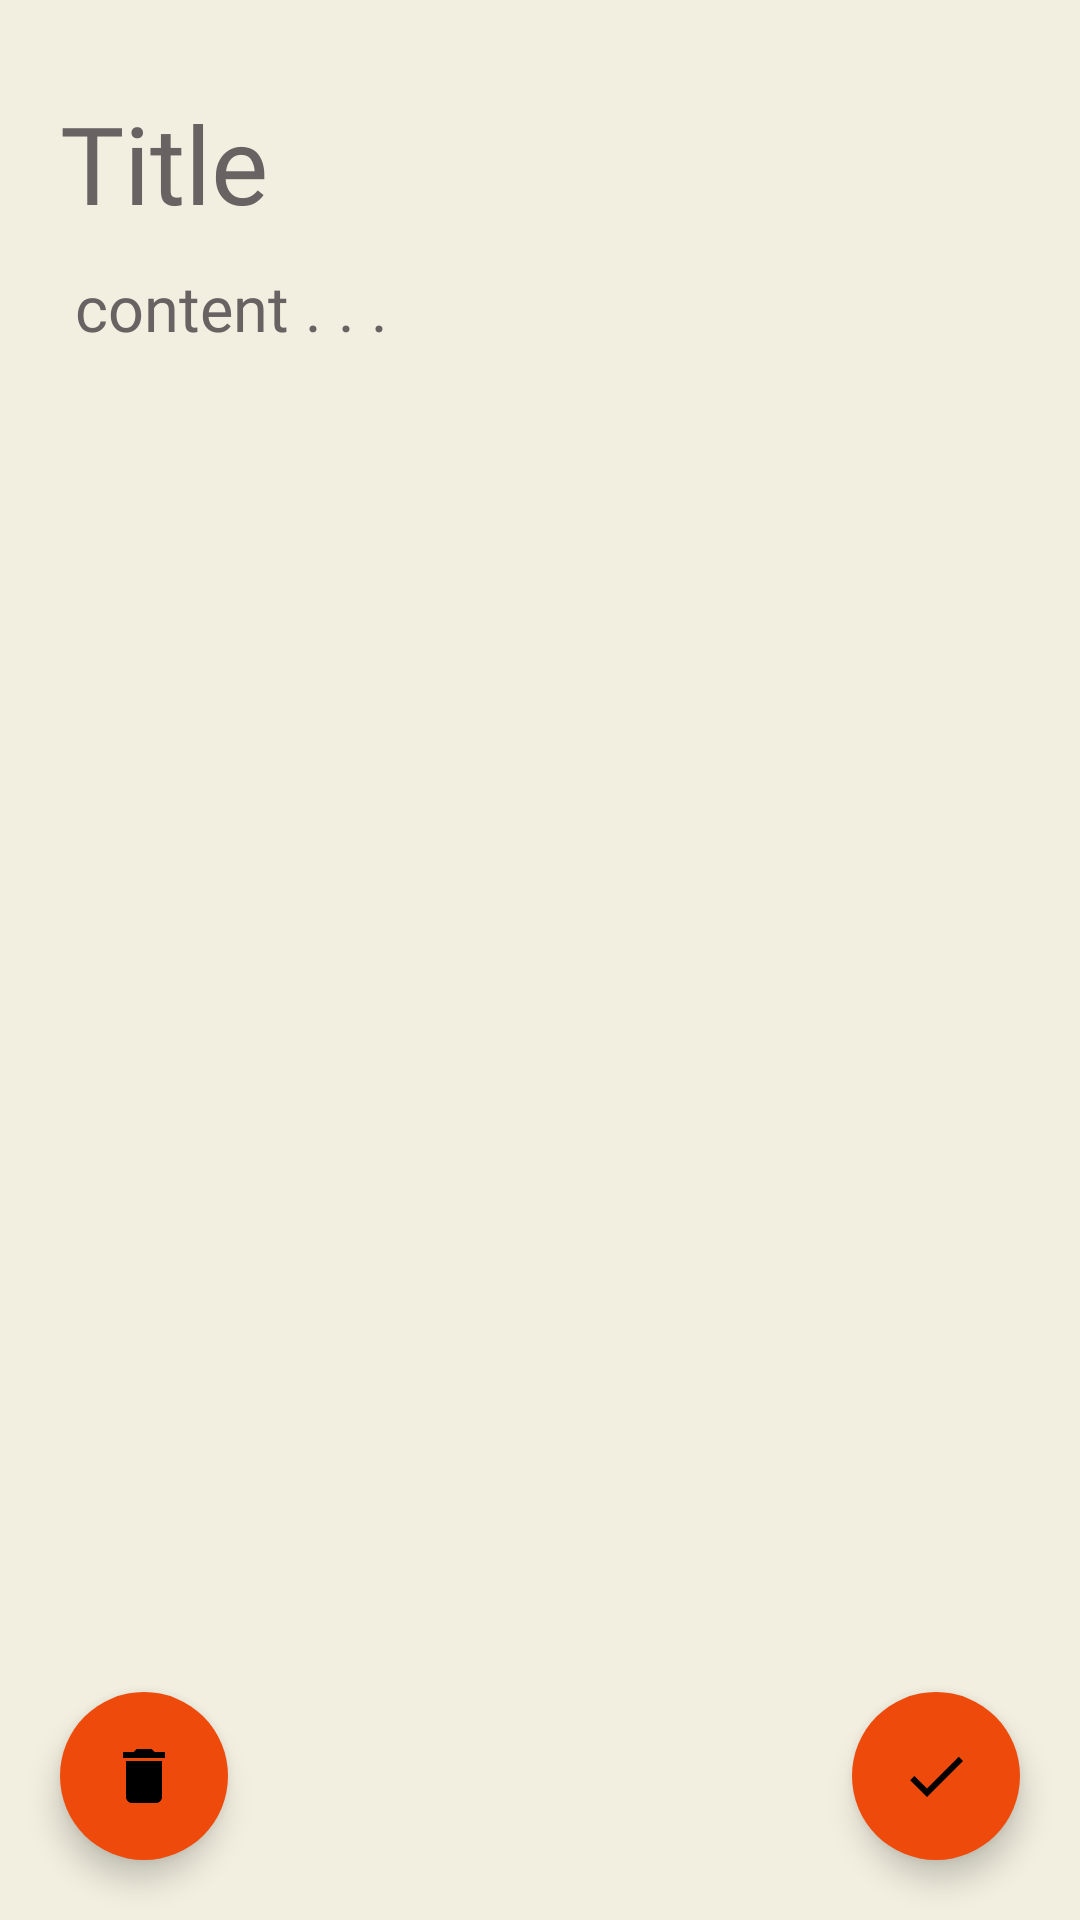

Screen size 1080px x 1920px. Icon name, then its center in pixels as (x=x, y=y):
done: (x=936, y=1776)
trash: (x=144, y=1776)
